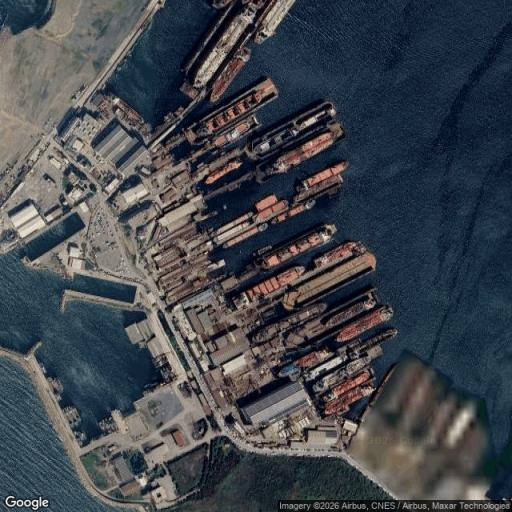ship: (184, 79, 278, 143), (192, 3, 256, 89), (283, 252, 375, 310), (286, 288, 380, 344), (245, 102, 335, 159), (264, 123, 343, 177), (259, 224, 336, 269), (252, 303, 327, 343), (236, 266, 304, 306), (293, 161, 348, 204), (210, 47, 250, 102), (311, 356, 374, 390), (336, 307, 392, 342), (254, 0, 295, 43), (206, 116, 259, 149), (277, 348, 336, 377), (324, 368, 371, 402), (324, 384, 374, 415), (347, 328, 397, 355), (314, 242, 365, 267), (213, 212, 253, 243), (107, 93, 146, 124), (223, 223, 267, 248), (304, 355, 346, 381), (272, 200, 315, 223), (213, 220, 251, 244), (205, 159, 241, 184), (255, 195, 287, 222), (216, 212, 252, 235), (63, 406, 81, 428), (0, 16, 11, 52), (47, 377, 63, 399), (100, 416, 118, 434), (253, 244, 272, 257), (212, 0, 232, 8)
